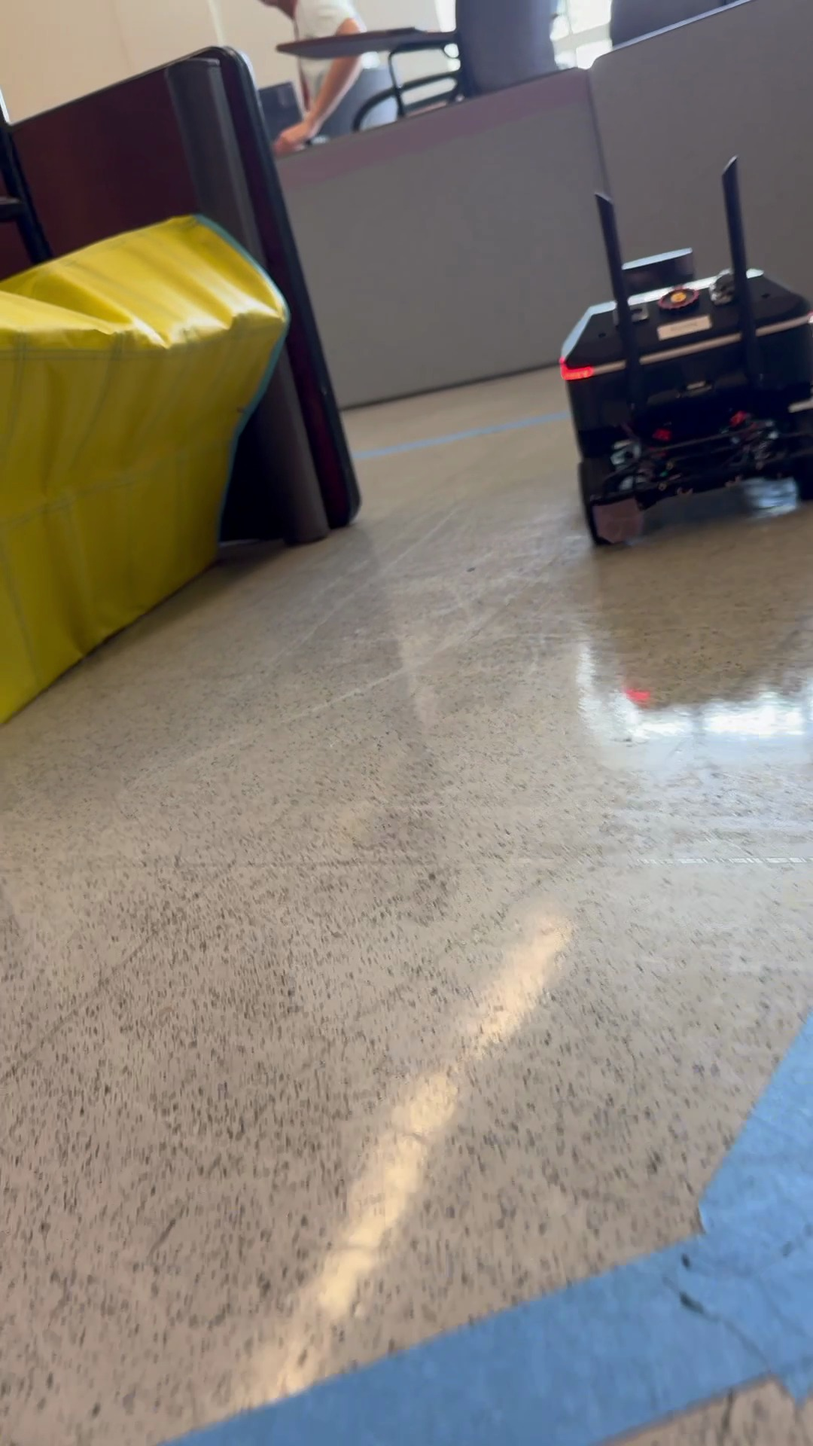racecar: (557, 161, 813, 550)
